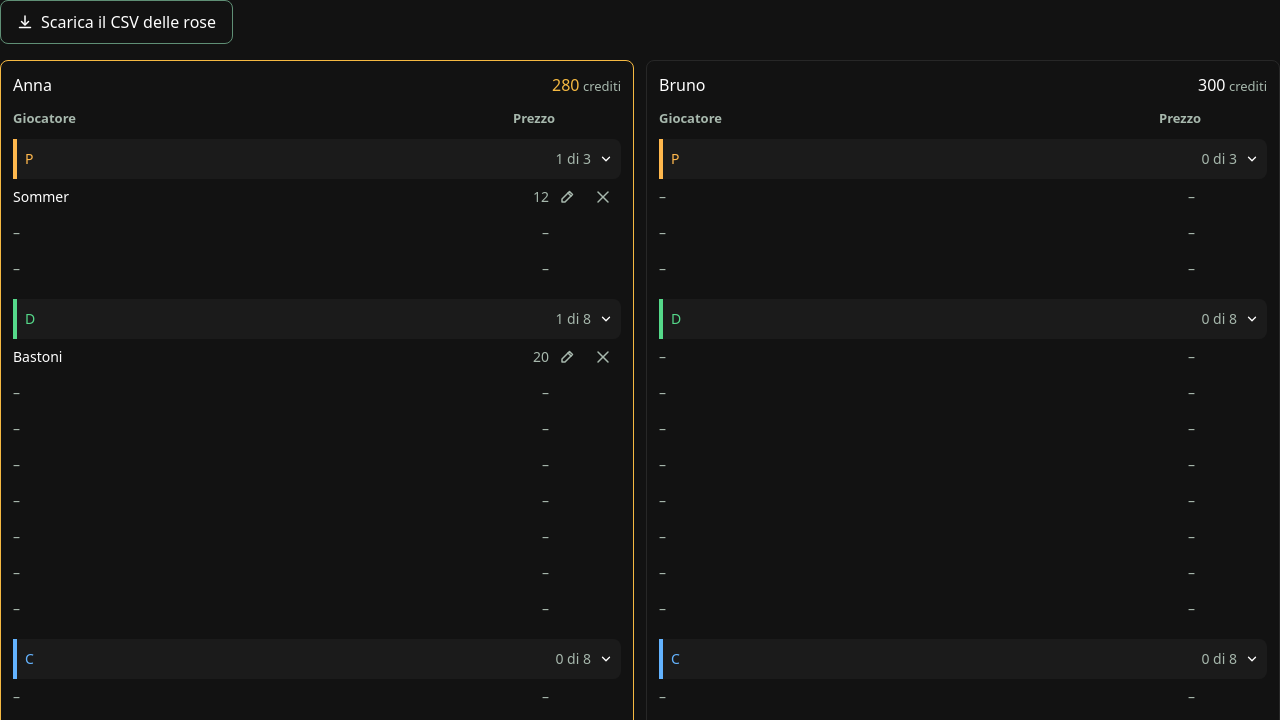
RosterGrid › una correzione rifiutata resta nella modale, con la frase per chi gioca
Click the button named "Correggi l'acquisto di Sommer" at (567, 197), box [549, 179, 585, 215]
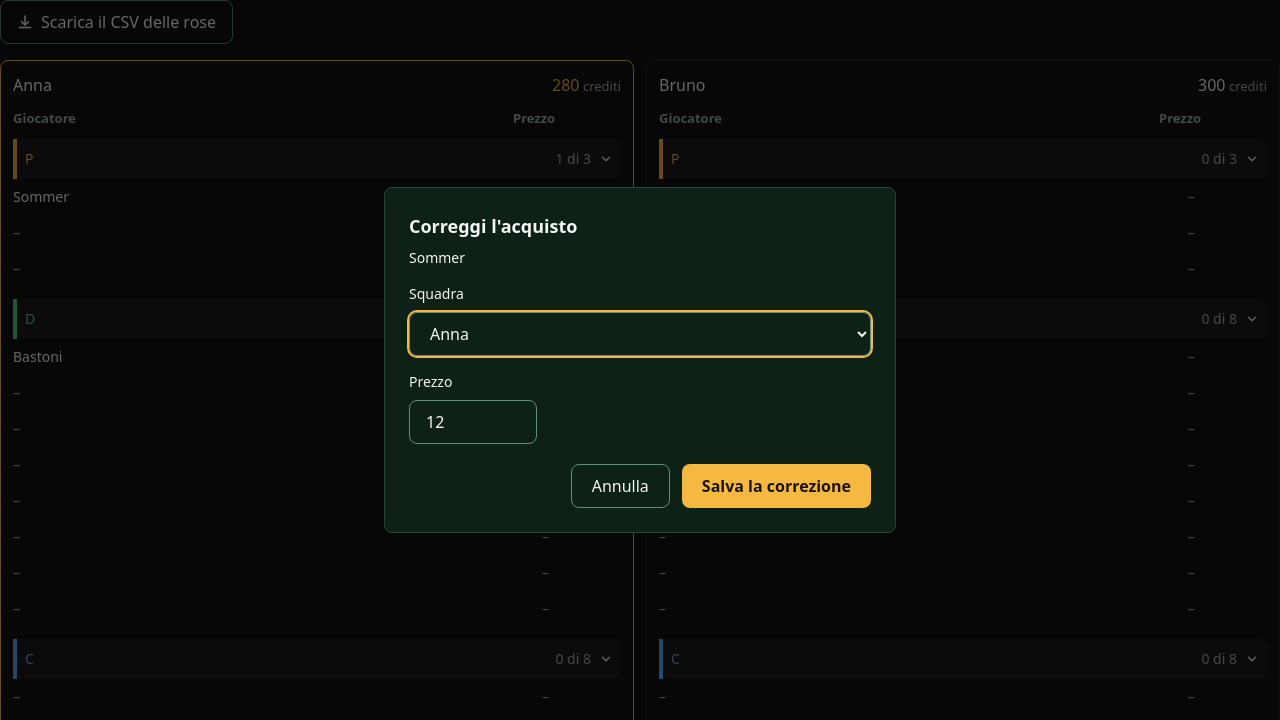
Click the button "Salva la correzione" at (776, 486), box [682, 464, 871, 508]
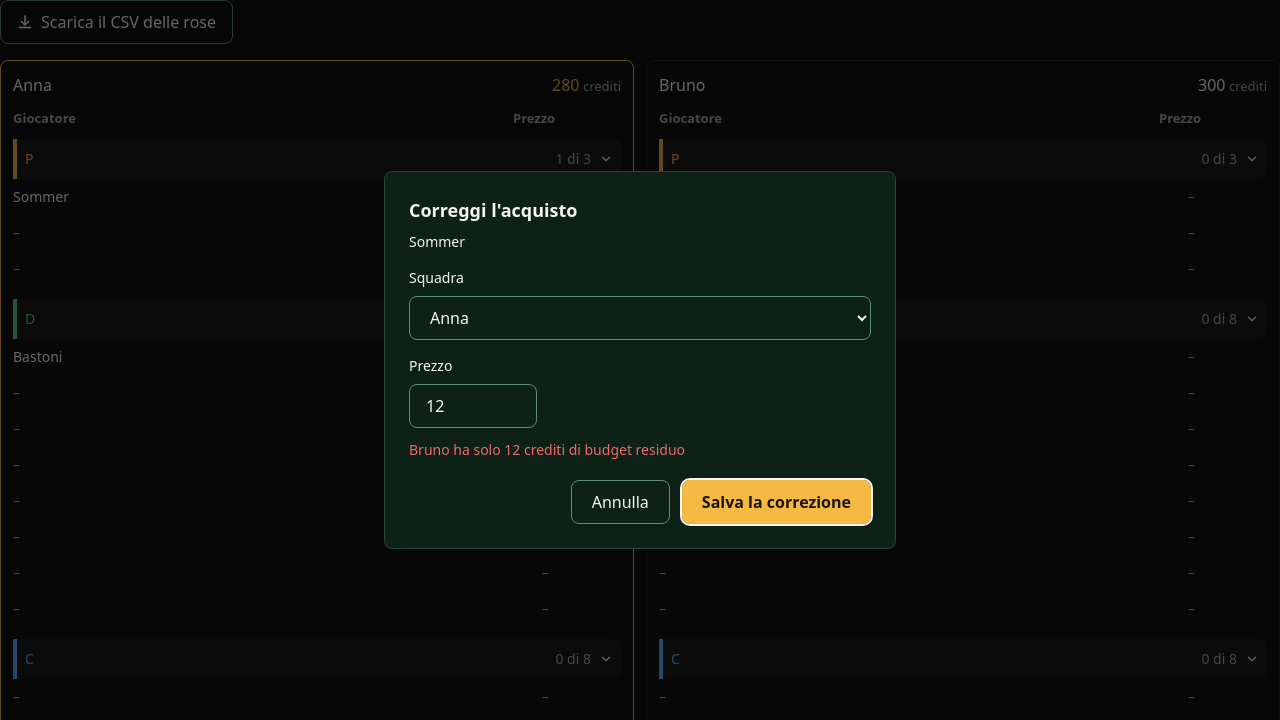
expect the message shows "Bruno ha solo 12 crediti": met, box [409, 440, 685, 459]
expect the number of messages is 1: met, box [409, 440, 685, 459]
